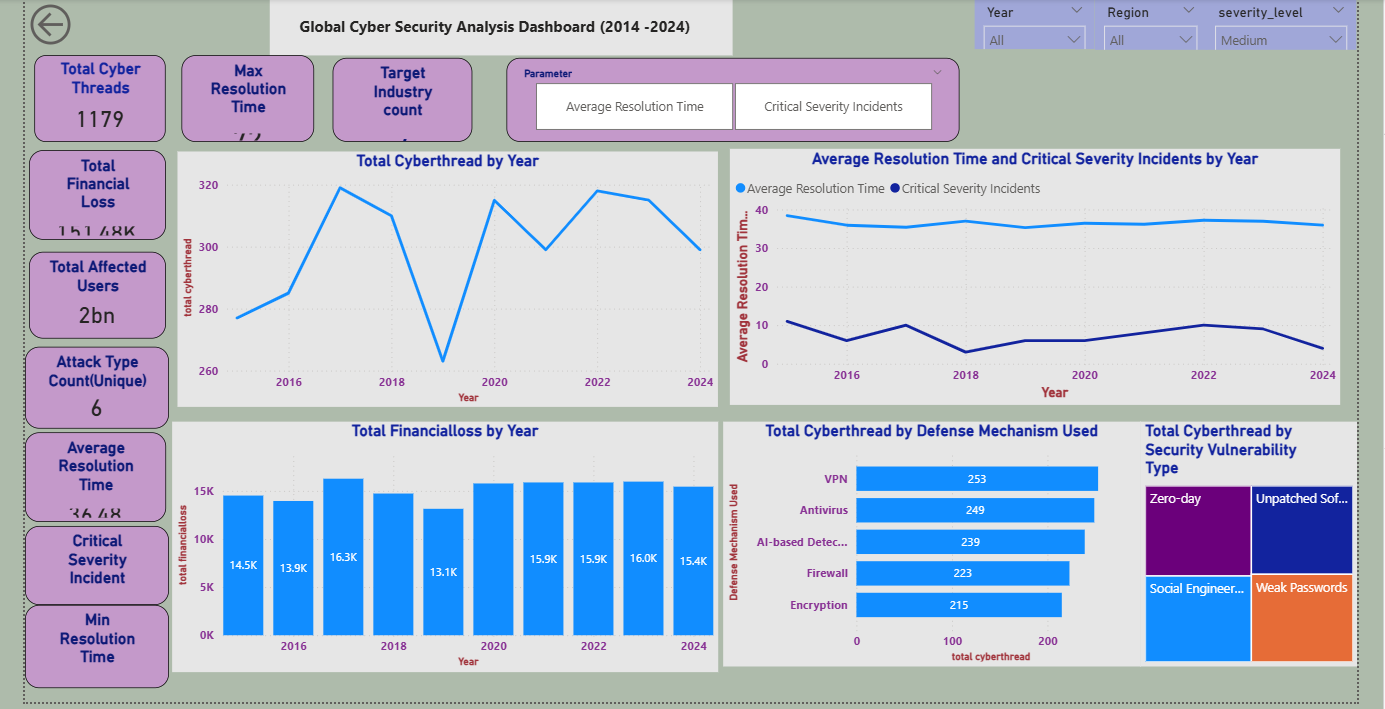

The page's visual inventory and layout, read from the dashboard file:
{"tool":"powerbi","page":{"name":"Page 1","canvas":[1411,745],"ordinal":0},"visuals":[{"type":"card","title":"Total Cyber Threads","fields":{"Values":["Global_Cybersecurity_Threats_2015-2024.total cyberthread"]},"box":[10.3,60,139.1,92.3],"z":0},{"type":"card","title":"Total Financial Loss","fields":{"Values":["Global_Cybersecurity_Threats_2015-2024.total financialloss"]},"box":[4.4,159.6,145,95.2],"z":1000},{"type":"card","title":"Total Affected Users","fields":{"Values":["Global_Cybersecurity_Threats_2015-2024.Total Affected Users"]},"box":[4.4,268,145,92.3],"z":2000},{"type":"card","title":"Attack Type Count(Unique)","fields":{"Values":["Global_Cybersecurity_Threats_2015-2024.unique attack type"]},"box":[0,369,152.3,86.4],"z":3000},{"type":"card","title":"Average Resolution Time ","fields":{"Values":["Global_Cybersecurity_Threats_2015-2024.Average Resolution Time"]},"box":[0,459.8,149.4,95.2],"z":4000},{"type":"card","title":"Critical Severity Incident","fields":{"Values":["Global_Cybersecurity_Threats_2015-2024.Critical Severity Incidents"]},"box":[0,557.9,152.3,83.5],"z":5000},{"type":"slicer","fields":{"Values":["Global_Cybersecurity_Threats_2015-2024.Year"]},"box":[1006,0,127.4,52.7],"z":6000},{"type":"slicer","fields":{"Values":["Global_Cybersecurity_Threats_2015-2024.Region"]},"box":[1133.4,0,118.6,54.2],"z":7000},{"type":"lineChart","title":"Total Cyberthread by Year","fields":{"Category":["Global_Cybersecurity_Threats_2015-2024.Year"],"Y":["Global_Cybersecurity_Threats_2015-2024.total cyberthread"]},"box":[161.1,161.1,572.6,270.9],"z":8000},{"type":"columnChart","title":"Total Financialloss by Year","fields":{"Category":["Global_Cybersecurity_Threats_2015-2024.Year"],"Y":["Global_Cybersecurity_Threats_2015-2024.total financialloss"]},"box":[155.2,448.1,578.4,265.1],"z":9000},{"type":"textbox","box":[259.2,0,490.6,60],"z":10000},{"type":"slicer","fields":{"Values":["Global_Cybersecurity_Threats_2015-2024.severity_level"]},"box":[1252.1,0,159.6,54.2],"z":11000},{"type":"card","title":"Min Resolution Time","fields":{"Values":["Global_Cybersecurity_Threats_2015-2024.min resol tme"]},"box":[0,641.4,152.3,87.9],"z":12000},{"type":"card","title":"Max Resolution Time","fields":{"Values":["Global_Cybersecurity_Threats_2015-2024.max resol time"]},"box":[165.5,60,140.6,92.3],"z":13000},{"type":"card","title":"Target Industry count","fields":{"Values":["Global_Cybersecurity_Threats_2015-2024.targetindustrycount"]},"box":[326.6,63,147.9,89.3],"z":14000},{"type":"clusteredBarChart","title":"Total Cyberthread by Defense Mechanism Used","fields":{"Y":["Global_Cybersecurity_Threats_2015-2024.total cyberthread"],"Category":["Global_Cybersecurity_Threats_2015-2024.Defense Mechanism Used"]},"box":[739.5,448.1,442.3,259.2],"z":15000},{"type":"lineChart","fields":{"Y":["Global_Cybersecurity_Threats_2015-2024.Average Resolution Time","Global_Cybersecurity_Threats_2015-2024.Critical Severity Incidents"],"Category":["Global_Cybersecurity_Threats_2015-2024.Year"]},"box":[747.1,159.1,646.9,271.1],"z":16000},{"type":"treemap","title":"Total Cyberthread by Security Vulnerability Type","fields":{"Details":["Global_Cybersecurity_Threats_2015-2024.Security Vulnerability Type"],"Values":["Global_Cybersecurity_Threats_2015-2024.total cyberthread"]},"box":[1181.8,448.1,229.9,259.2],"z":17000},{"type":"actionButton","box":[0,0,75.6,54.6],"z":17500},{"type":"slicer","fields":{"Values":["Parameter.Parameter"]},"box":[509.6,63,480.3,89.3],"z":18000}]}

Visuals, with their boxes on the page's 1411x745 design canvas (x1, y1, x2, y2). These are canvas units, not pixel positions in the 1385x709 screenshot, which may show the page scaled, cropped or inside an application window:
"Total Cyber Threads" card: x1=10, y1=60, x2=149, y2=152
"Total Financial Loss" card: x1=4, y1=160, x2=149, y2=255
"Total Affected Users" card: x1=4, y1=268, x2=149, y2=360
"Attack Type Count(Unique)" card: x1=0, y1=369, x2=152, y2=455
"Average Resolution Time " card: x1=0, y1=460, x2=149, y2=555
"Critical Severity Incident" card: x1=0, y1=558, x2=152, y2=641
slicer - Global_Cybersecurity_Threats_2015-2024.Year: x1=1006, y1=0, x2=1133, y2=53
slicer - Global_Cybersecurity_Threats_2015-2024.Region: x1=1133, y1=0, x2=1252, y2=54
"Total Cyberthread by Year" lineChart: x1=161, y1=161, x2=734, y2=432
"Total Financialloss by Year" columnChart: x1=155, y1=448, x2=734, y2=713
textbox: x1=259, y1=0, x2=750, y2=60
slicer - Global_Cybersecurity_Threats_2015-2024.severity_level: x1=1252, y1=0, x2=1412, y2=54
"Min Resolution Time" card: x1=0, y1=641, x2=152, y2=729
"Max Resolution Time" card: x1=166, y1=60, x2=306, y2=152
"Target Industry count" card: x1=327, y1=63, x2=474, y2=152
"Total Cyberthread by Defense Mechanism Used" clusteredBarChart: x1=740, y1=448, x2=1182, y2=707
lineChart - Global_Cybersecurity_Threats_2015-2024.Average Resolution Time x Global_Cybersecurity_Threats_2015-2024.Critical Severity Incidents: x1=747, y1=159, x2=1394, y2=430
"Total Cyberthread by Security Vulnerability Type" treemap: x1=1182, y1=448, x2=1412, y2=707
actionButton: x1=0, y1=0, x2=76, y2=55
slicer - Parameter.Parameter: x1=510, y1=63, x2=990, y2=152
